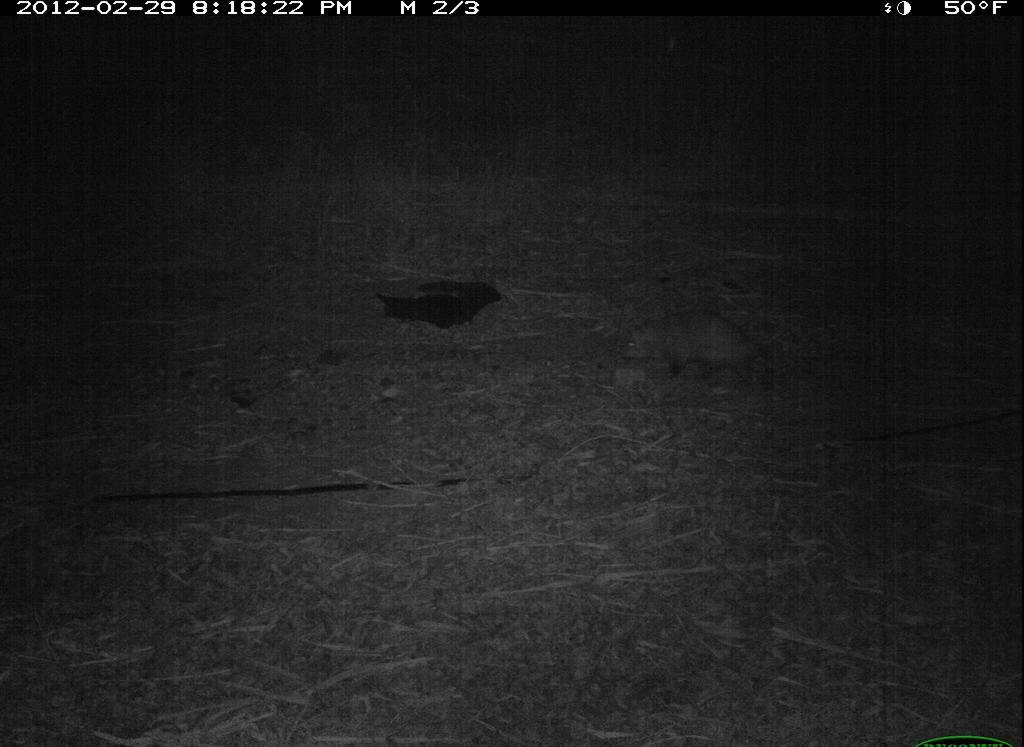opossum: (623, 292, 793, 391)
